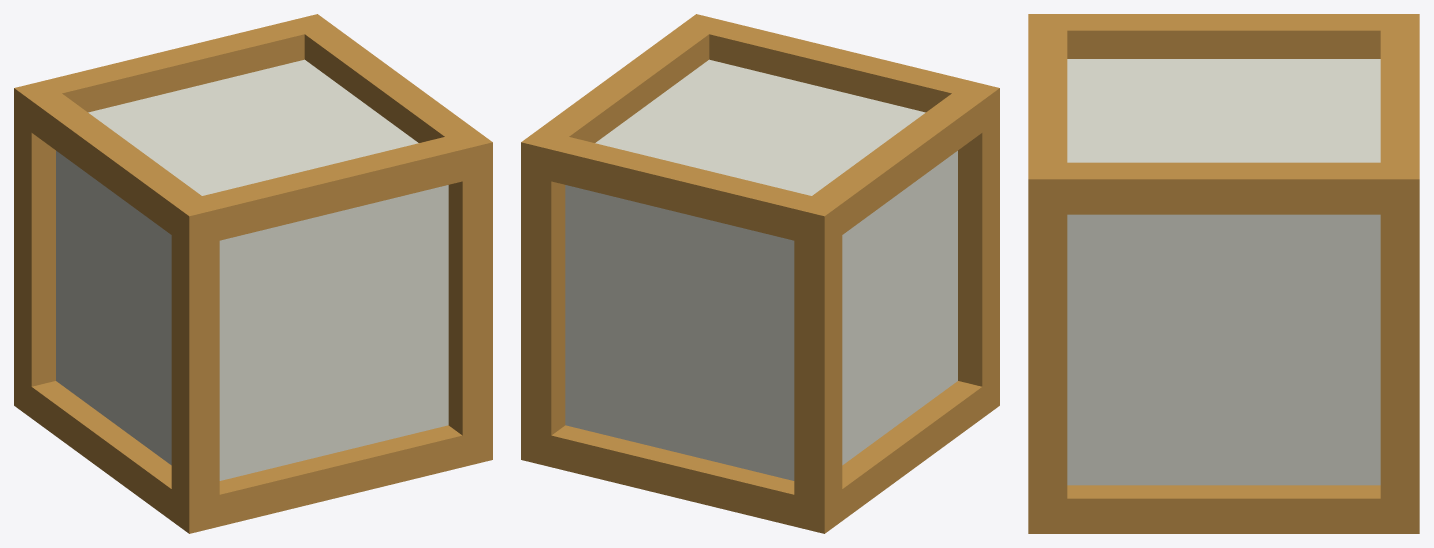
File: void.obj
The picture shows the model from 3 angles, left to right: view 1: azimuth 30°, elevation 25°; view 2: azimuth 150°, elevation 25°; view 3: azimuth 270°, elevation 25°; orthographic projection. The views are drawn at different scales.
Bounding box in the file's own units: 1 × 1 × 1.
